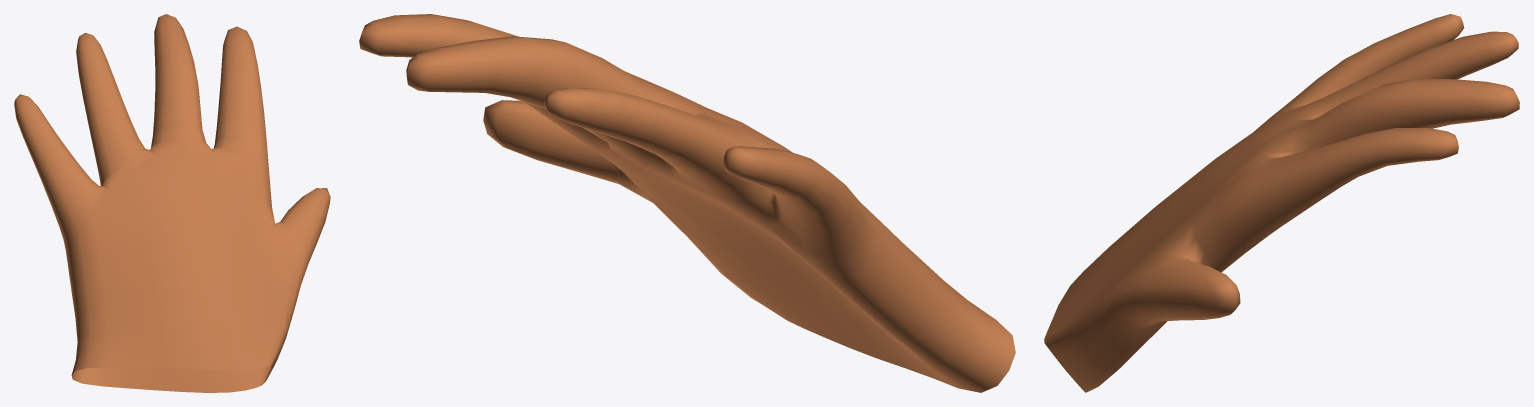
The model's file is FinalHand.fbx.
3 renders of one model, left to right at view 1: azimuth 30°, elevation 25°; view 2: azimuth 150°, elevation 25°; view 3: azimuth 270°, elevation 25°, orthographic. The views are drawn at different scales.
Parts seen in each view (by area): view 1: Cube; view 2: Cube; view 3: Cube.
Boxes of the visible parts, left/top/right/bottom form: Cube: left=14, top=14, right=330, bottom=392; Cube: left=359, top=14, right=1015, bottom=392; Cube: left=1044, top=14, right=1519, bottom=392.
Size of the model in its own units: 304 by 259 by 322.
Materials: 1 (1 with a texture image).
